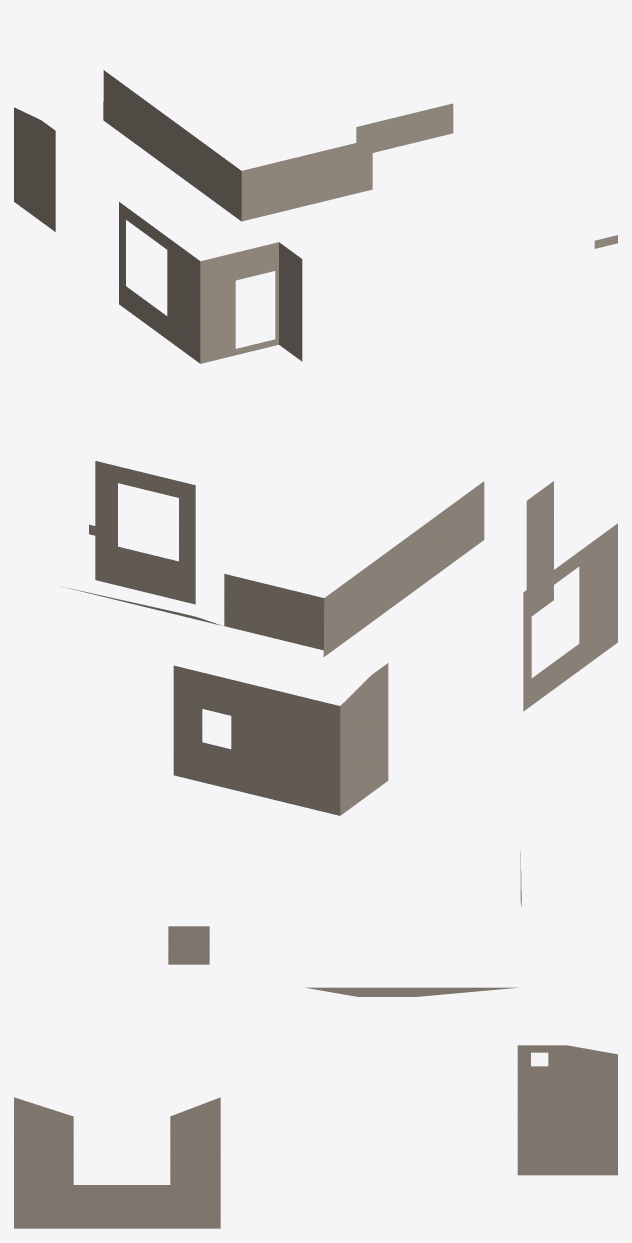
The model's file is kd_stage_135d18_4_146.glb.
The picture shows the model from 3 angles, top to bottom: view 1: azimuth 30°, elevation 25°; view 2: azimuth 150°, elevation 25°; view 3: azimuth 270°, elevation 25°; orthographic projection. The views are drawn at different scales.
Visible parts, largest first — view 1: kd_stage_135d18_4_146; view 2: kd_stage_135d18_4_146; view 3: kd_stage_135d18_4_146.
Boxes of the visible parts, x1,y1,x2,y2 form: kd_stage_135d18_4_146: [14, 70, 617, 363]; kd_stage_135d18_4_146: [62, 461, 617, 815]; kd_stage_135d18_4_146: [14, 851, 617, 1228].
Size of the model in its own units: 10.46 by 3.54 by 10.3.
Materials: 1 (1 with a texture image).
